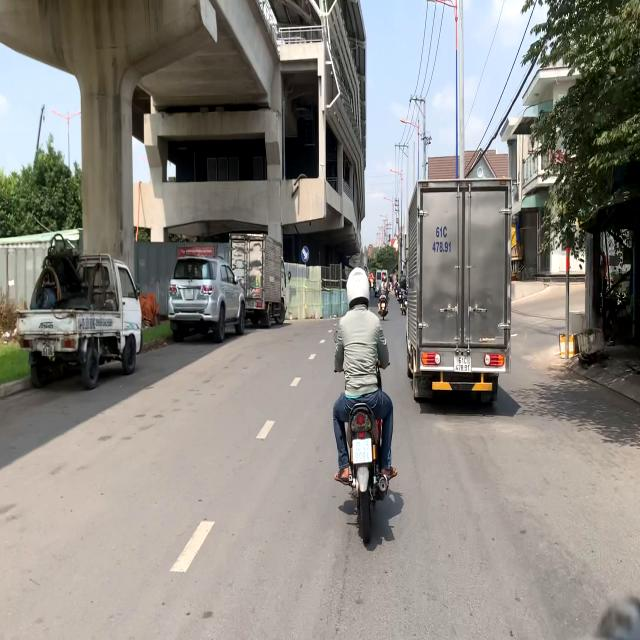R.302a: (301, 245, 310, 264)
